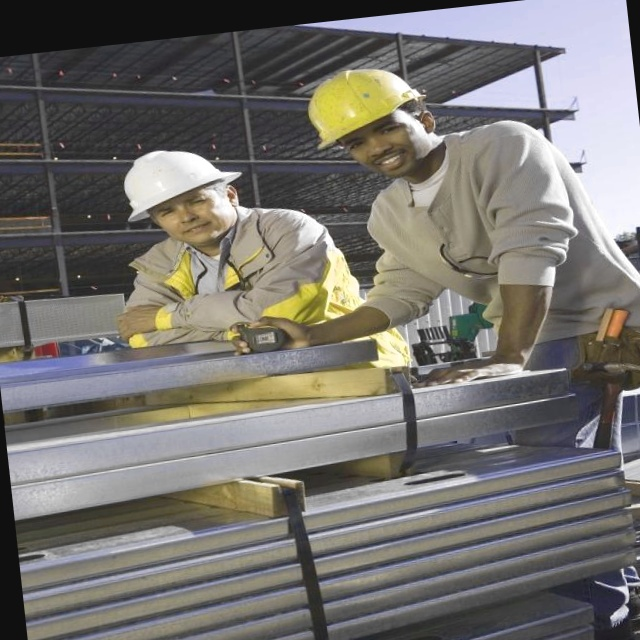Con_Casco: (304, 58, 450, 173), (125, 142, 254, 242)
